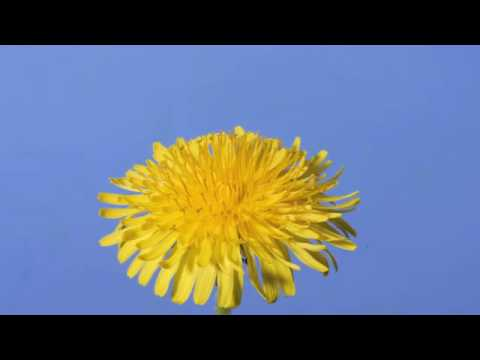dandelion: (106, 127, 359, 310)
